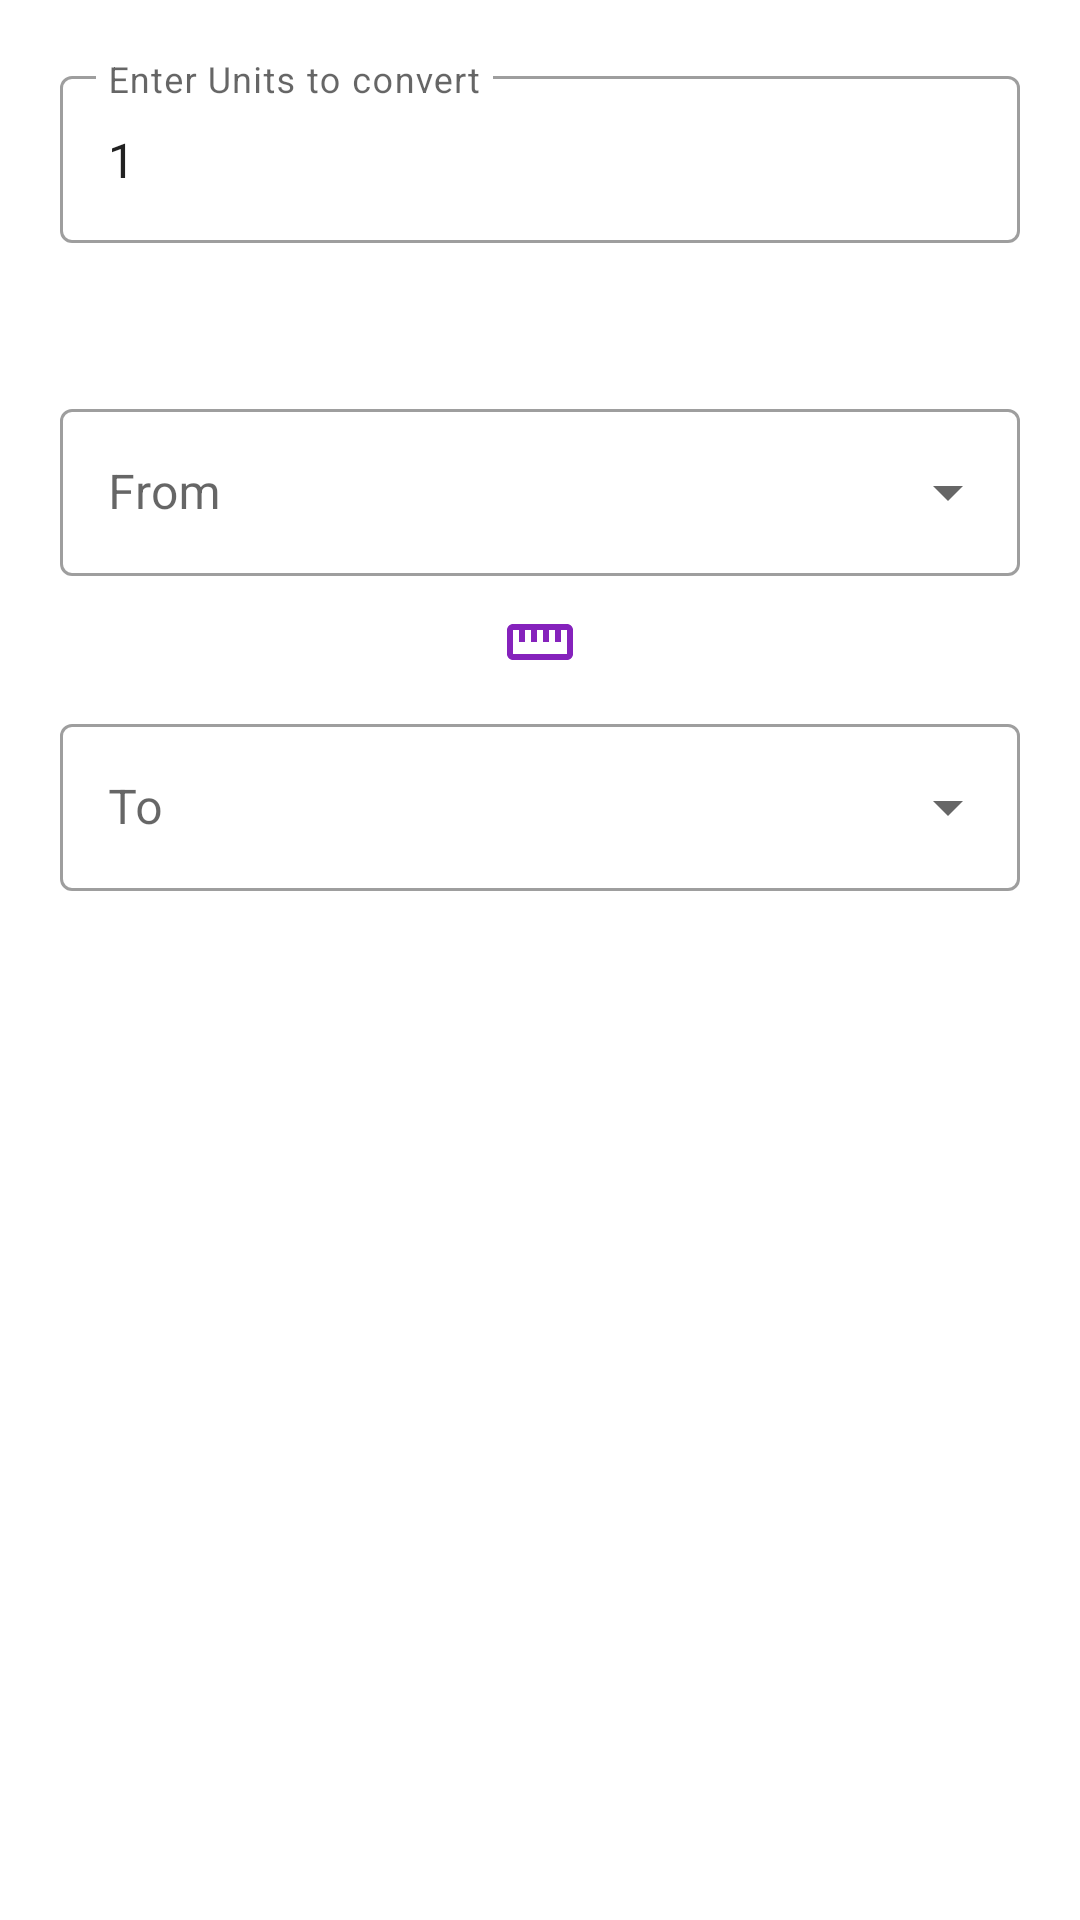

Icon bounding boxes for this 1080 x 1920 phone screenshot, format bbox=(x1, y1, x2, y2):
Convert Icon: bbox=(507, 624, 573, 660)
